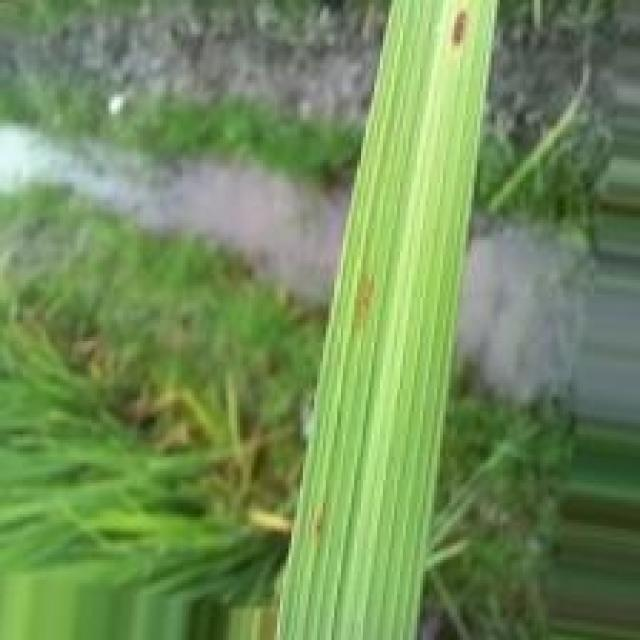Brown_Spot: (348, 271, 378, 323), (448, 4, 476, 51)
